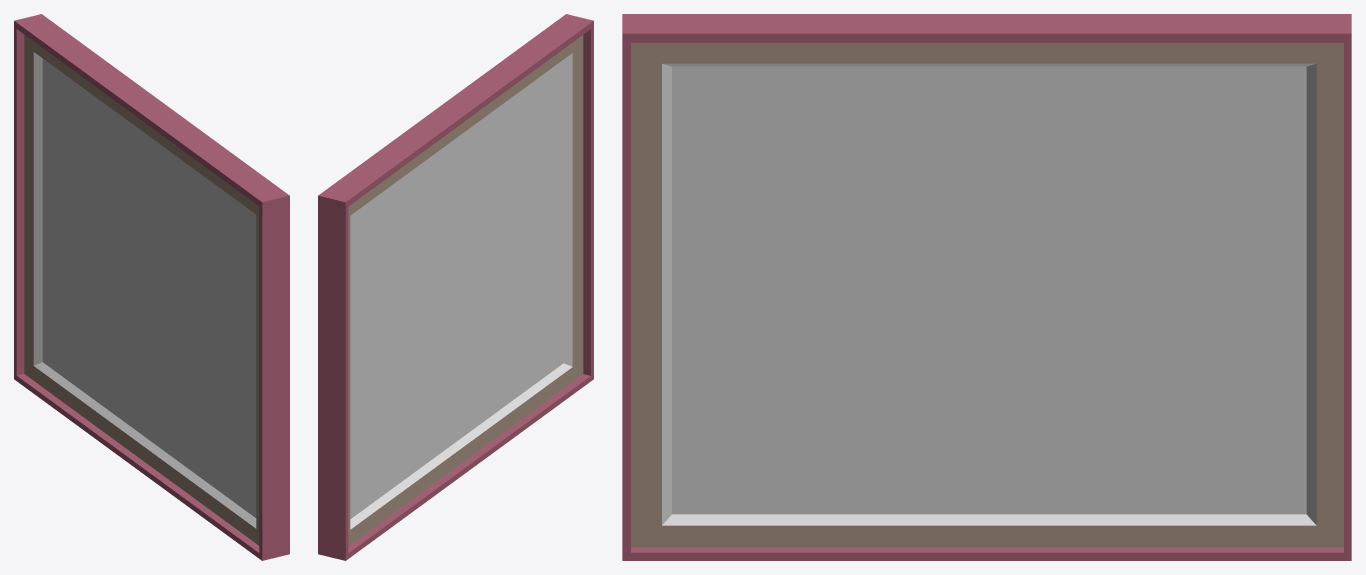
The model's file is Sign_score.fbx.
3 renders of one model, left to right at view 1: azimuth 30°, elevation 25°; view 2: azimuth 150°, elevation 25°; view 3: azimuth 270°, elevation 25°, orthographic. The views are drawn at different scales.
Visible parts, largest first — view 1: pCube1; view 2: pCube1; view 3: pCube1.
Part boxes in pixels (bbox=[...]): pCube1: bbox=[14, 14, 289, 560]; pCube1: bbox=[318, 14, 593, 560]; pCube1: bbox=[622, 14, 1351, 560].
Bounding box in the file's own units: 0.3814 × 4.74 × 5.94.
